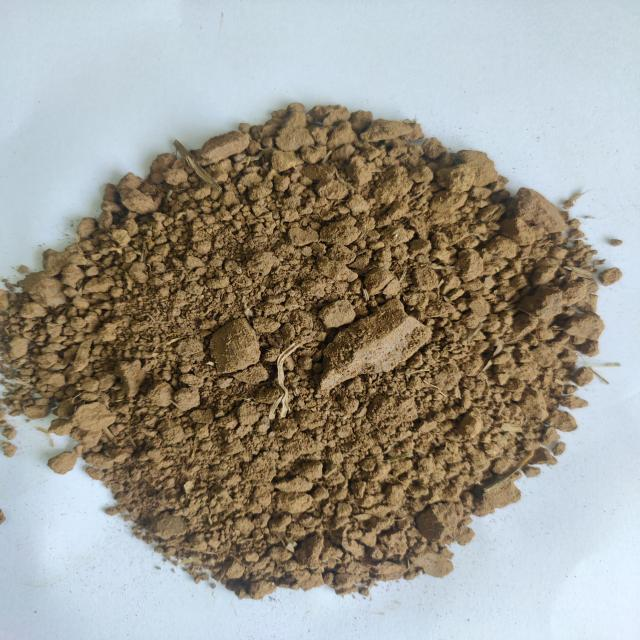soil: (99, 218, 532, 476)
